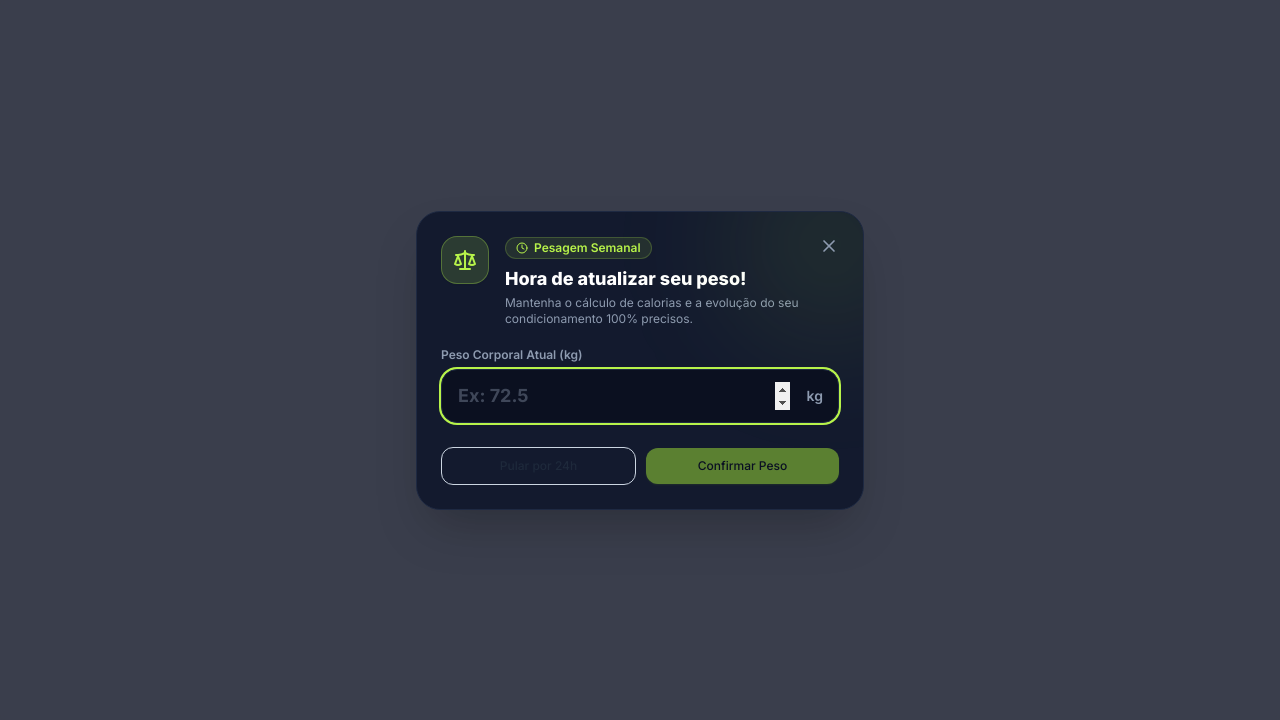
Test: WeeklyWeightModal Component › exibe mensagem de erro ao informar peso inválido (< 30 kg ou > 250 kg)
In the number field labelled "Peso Corporal Atual (kg)": (640, 396) x1=441 y1=368 x2=839 y2=422, type "20"
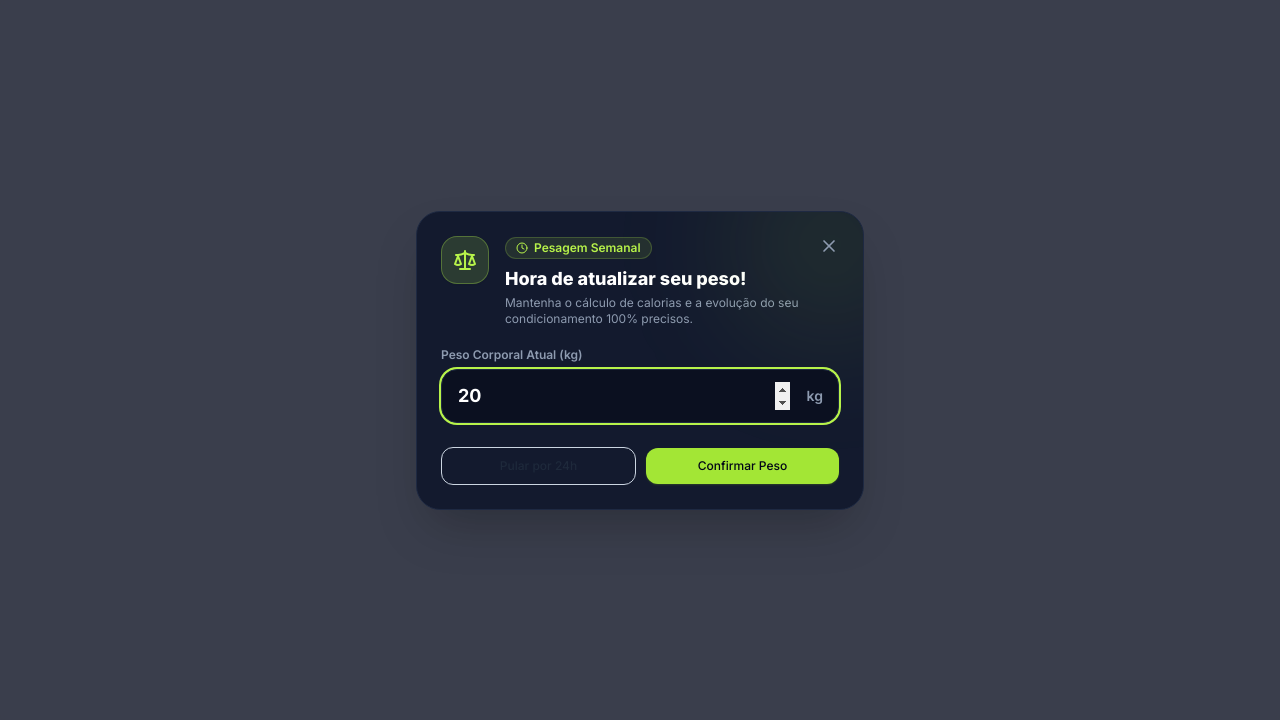
Submit the form labelled "Peso Corporal Atual (kg) kg Pular por 24h Confirmar Peso", box x1=441 y1=346 x2=839 y2=484
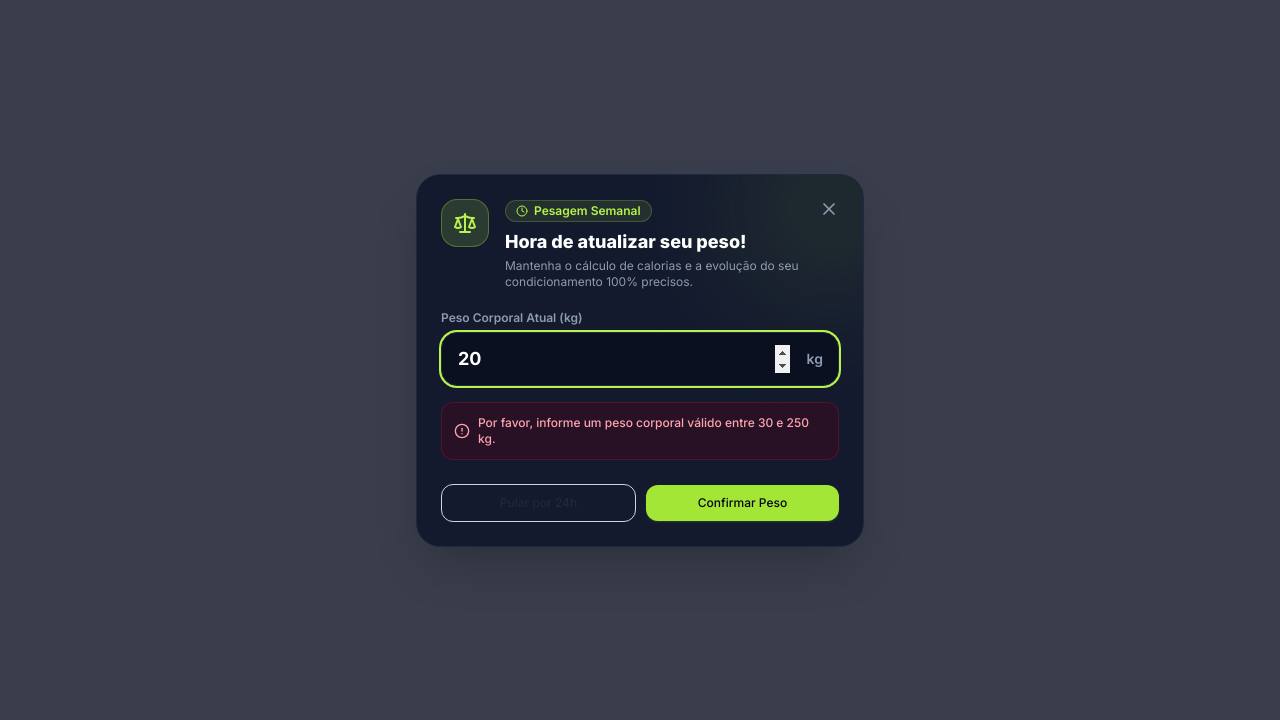
Expected: the text "informe um peso corporal válido entre 30 e 250 kg" is shown, x1=478 y1=414 x2=809 y2=446
